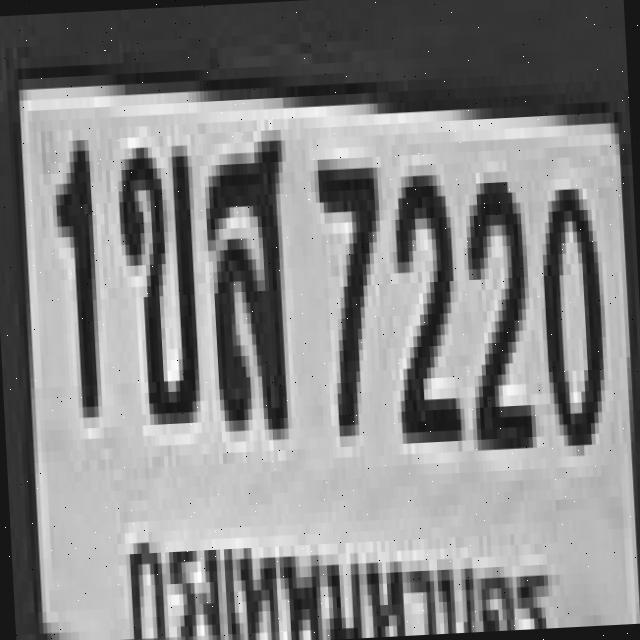0: (535, 178, 603, 436)
1: (48, 130, 98, 408)
11KhorKhai: (112, 134, 197, 416)
2: (384, 164, 458, 433), (460, 171, 532, 440)
49SorSuea: (198, 130, 292, 432)
7: (314, 146, 386, 426)
Bangkok: (125, 501, 552, 640)
